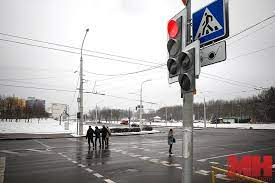tl: (167, 17, 203, 95)
